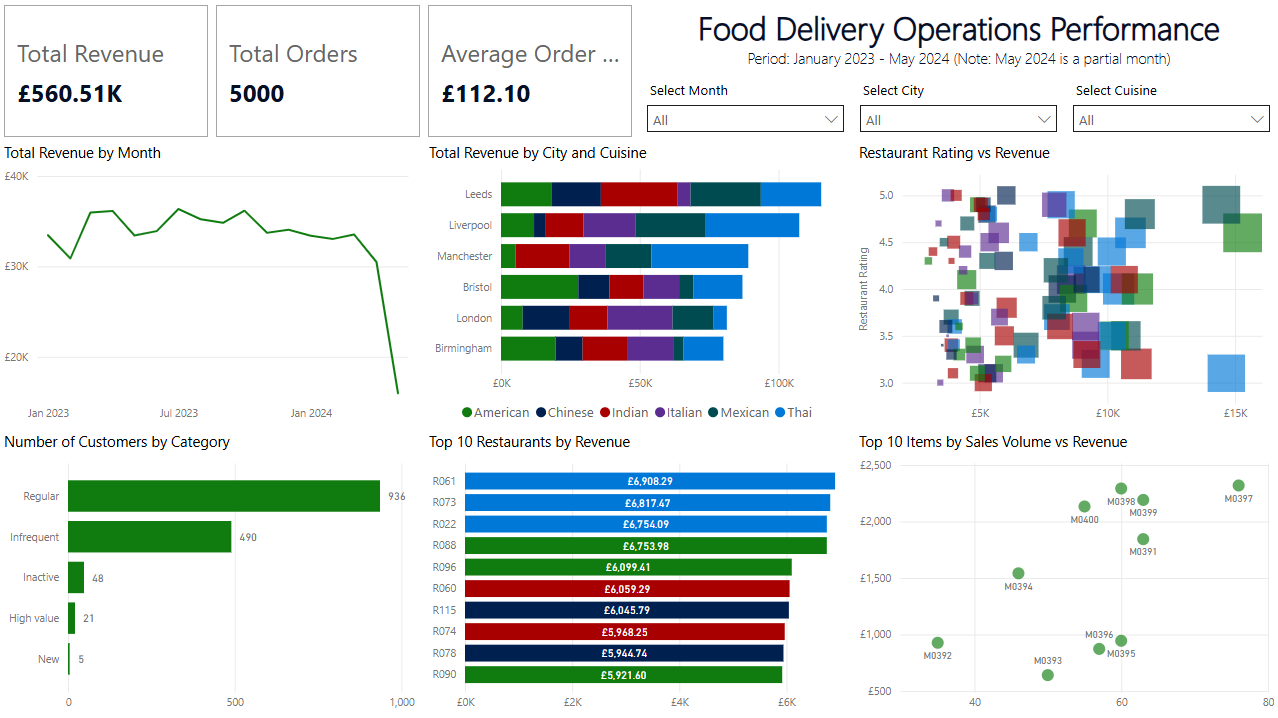

Layout of this report page (visuals, bound fields, positions):
{"tool":"powerbi","page":{"name":"Page 1","canvas":[1280,720],"ordinal":0},"visuals":[{"type":"barChart","title":"Total Revenue by City and Cuisine","fields":{"Category":["restaurants.city"],"Series":["restaurants.cuisine"],"Y":["order_items.order_revenue"]},"box":[425,142,430,289],"z":0},{"type":"barChart","title":"Number of Customers by Category","fields":{"Category":["customers.customer_category"],"Y":["CountNonNull(customers.customer_category)"]},"box":[0,431,425,289],"z":1000},{"type":"scatterChart","title":"Restaurant Rating vs Revenue","fields":{"Series":["restaurant_performance.cuisine"],"Size":["Sum(restaurant_performance.num_orders)"],"X":["order_items.order_revenue"],"Y":["restaurant_performance.rating"]},"box":[855,142,425,289],"z":2000},{"type":"lineChart","title":"Total Revenue by Month","fields":{"Category":["order_dates.order_date_year_month"],"Y":["order_items.order_revenue"]},"box":[0,142,425,289],"z":3000},{"type":"barChart","title":"Top 10 Restaurants by Revenue","fields":{"Category":["restaurants.restaurant_id"],"Series":["restaurants.cuisine"],"Y":["order_items.order_revenue"]},"box":[425,431,430,289],"z":4000},{"type":"scatterChart","title":"Top 10 Items by Sales Volume vs Revenue","fields":{"Category":["order_items.item_id"],"X":["Sum(order_items.quantity)"],"Y":["order_items.order_revenue"]},"box":[855,431,425,289],"z":5000},{"type":"slicer","fields":{"Values":["order_dates.order_date_year_month"]},"box":[640,78,213,63],"z":6000},{"type":"slicer","fields":{"Values":["restaurants.city"]},"box":[853,78,213,63],"z":7000},{"type":"slicer","fields":{"Values":["restaurants.cuisine"]},"box":[1066,78,213,63],"z":8000},{"type":"cardVisual","fields":{"Data":["order_items.order_revenue","order_items.total_orders","order_items.average_order_value"]},"box":[0,0,640,142],"z":9000},{"type":"textbox","box":[640,0,640,78],"z":10000}]}

Visuals, with their boxes in screenshot pixels (x1, y1, x2, y2), scaled from the page's 1280x720 canvas onto the 1278x718 screenshot:
"Total Revenue by City and Cuisine" barChart: [x1=424, y1=142, x2=854, y2=430]
"Number of Customers by Category" barChart: [x1=0, y1=430, x2=424, y2=717]
"Restaurant Rating vs Revenue" scatterChart: [x1=854, y1=142, x2=1277, y2=430]
"Total Revenue by Month" lineChart: [x1=0, y1=142, x2=424, y2=430]
"Top 10 Restaurants by Revenue" barChart: [x1=424, y1=430, x2=854, y2=717]
"Top 10 Items by Sales Volume vs Revenue" scatterChart: [x1=854, y1=430, x2=1277, y2=717]
slicer - order_dates.order_date_year_month: [x1=639, y1=78, x2=852, y2=141]
slicer - restaurants.city: [x1=852, y1=78, x2=1064, y2=141]
slicer - restaurants.cuisine: [x1=1064, y1=78, x2=1277, y2=141]
cardVisual - order_items.order_revenue x order_items.total_orders: [x1=0, y1=0, x2=639, y2=142]
textbox: [x1=639, y1=0, x2=1277, y2=78]
